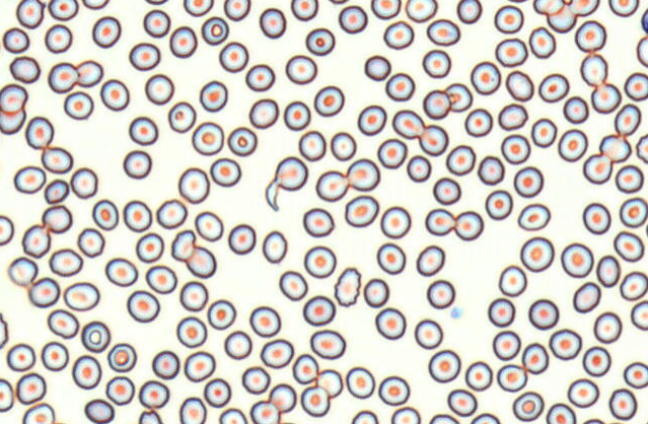PLT: (451, 306, 465, 320)
RBC: (520, 236, 554, 272), (560, 242, 593, 278), (346, 158, 380, 191), (344, 194, 378, 227), (191, 121, 224, 155), (178, 167, 209, 203), (333, 267, 361, 306), (303, 245, 336, 278), (275, 156, 307, 190), (126, 290, 160, 322), (428, 349, 460, 383), (548, 328, 582, 360), (309, 329, 345, 359), (63, 281, 99, 311), (315, 170, 348, 202), (470, 61, 501, 95), (71, 354, 101, 389), (249, 305, 281, 337), (574, 20, 606, 52), (185, 245, 216, 278), (375, 307, 406, 340), (302, 295, 335, 326), (380, 205, 411, 238), (104, 257, 138, 287), (557, 128, 587, 162), (48, 248, 83, 277), (15, 372, 46, 404), (183, 351, 215, 382), (176, 316, 207, 348), (47, 308, 79, 339), (528, 298, 559, 330), (155, 198, 187, 229), (613, 230, 644, 262), (260, 338, 293, 368), (345, 366, 375, 399), (122, 199, 152, 232), (91, 15, 121, 48), (495, 37, 528, 67), (21, 224, 50, 258), (25, 115, 54, 149), (47, 62, 78, 93), (590, 82, 621, 113), (313, 85, 344, 116), (300, 385, 330, 417), (567, 378, 599, 408), (209, 157, 241, 187), (512, 391, 544, 421), (145, 264, 177, 294), (80, 320, 110, 352), (28, 277, 60, 307), (302, 207, 334, 237), (392, 109, 424, 139), (285, 54, 317, 84), (13, 165, 46, 194), (100, 78, 129, 111), (426, 18, 460, 46), (7, 256, 38, 286), (582, 153, 612, 184), (378, 375, 409, 405), (418, 124, 448, 155), (445, 144, 475, 175), (513, 166, 543, 197), (144, 73, 174, 104), (218, 41, 248, 72), (248, 98, 279, 128), (500, 133, 530, 164), (599, 133, 631, 162), (608, 388, 637, 420), (498, 264, 527, 296), (582, 345, 611, 377), (572, 281, 601, 313), (593, 311, 622, 343), (376, 242, 405, 274), (416, 244, 445, 276), (167, 101, 196, 133), (582, 202, 611, 234), (517, 203, 550, 231), (169, 25, 197, 58), (105, 375, 135, 405), (377, 138, 407, 168), (227, 126, 257, 156), (122, 149, 152, 179), (138, 380, 169, 409), (496, 363, 527, 392), (278, 270, 307, 301), (207, 299, 236, 330), (179, 280, 208, 311), (194, 210, 223, 241), (414, 318, 443, 349), (227, 223, 256, 254), (41, 204, 72, 233), (383, 20, 414, 49), (505, 70, 534, 101), (538, 73, 569, 102), (357, 104, 386, 135), (528, 26, 556, 58), (199, 80, 227, 112), (128, 42, 160, 70), (580, 53, 607, 86), (546, 4, 576, 33), (107, 342, 136, 372), (40, 341, 69, 371), (426, 279, 455, 309), (454, 210, 483, 240), (135, 232, 164, 262), (63, 91, 93, 120), (128, 116, 158, 145), (464, 360, 492, 391), (424, 208, 455, 236), (619, 197, 647, 228), (9, 55, 40, 83), (298, 130, 326, 161), (70, 167, 98, 198), (0, 83, 27, 115), (521, 342, 548, 374), (41, 146, 73, 173), (614, 103, 641, 135), (6, 342, 35, 371), (422, 49, 451, 78), (494, 4, 523, 33), (385, 72, 414, 101), (268, 383, 296, 413), (447, 388, 477, 416), (203, 377, 231, 407), (619, 271, 647, 301), (492, 330, 520, 360), (487, 297, 515, 327), (444, 82, 472, 112), (422, 89, 450, 119), (305, 27, 335, 55), (498, 102, 528, 130), (464, 107, 492, 137), (245, 63, 275, 91), (292, 353, 319, 384), (91, 199, 118, 230), (485, 189, 512, 220), (259, 7, 286, 38), (170, 229, 196, 261), (262, 230, 287, 263), (241, 366, 270, 394), (151, 350, 179, 379), (224, 330, 252, 359), (432, 177, 461, 205), (15, 0, 44, 28), (615, 164, 643, 193), (44, 24, 72, 53), (201, 16, 229, 45), (338, 5, 367, 33), (316, 368, 343, 398), (77, 227, 104, 257), (477, 155, 504, 185), (530, 117, 557, 147), (283, 100, 310, 130), (596, 254, 620, 287), (75, 59, 103, 87), (330, 131, 356, 161), (143, 9, 170, 37), (363, 278, 389, 307), (562, 95, 588, 124), (84, 398, 114, 423), (179, 396, 206, 423), (2, 26, 29, 53), (364, 54, 391, 81), (405, 0, 437, 22), (406, 154, 431, 182), (22, 402, 55, 423), (249, 400, 279, 423), (43, 178, 69, 204), (624, 72, 647, 101), (545, 402, 576, 423), (623, 361, 647, 388), (0, 109, 25, 134), (456, 0, 482, 24), (47, 0, 78, 20), (370, 0, 401, 19), (290, 0, 318, 21), (223, 0, 250, 21), (608, 0, 639, 17), (630, 300, 647, 330), (390, 406, 420, 423), (569, 0, 599, 16), (183, 0, 213, 16), (0, 378, 14, 412), (218, 407, 247, 423), (533, 0, 563, 15), (0, 214, 14, 245), (636, 35, 648, 67), (351, 409, 378, 423), (635, 133, 647, 163), (138, 409, 162, 423), (470, 412, 500, 423), (429, 413, 459, 423), (0, 312, 8, 348), (82, 0, 109, 9), (641, 8, 648, 33), (582, 417, 605, 423), (144, 0, 168, 5), (328, 0, 348, 4), (507, 0, 528, 3)
Schistocyte: (266, 176, 281, 213)
